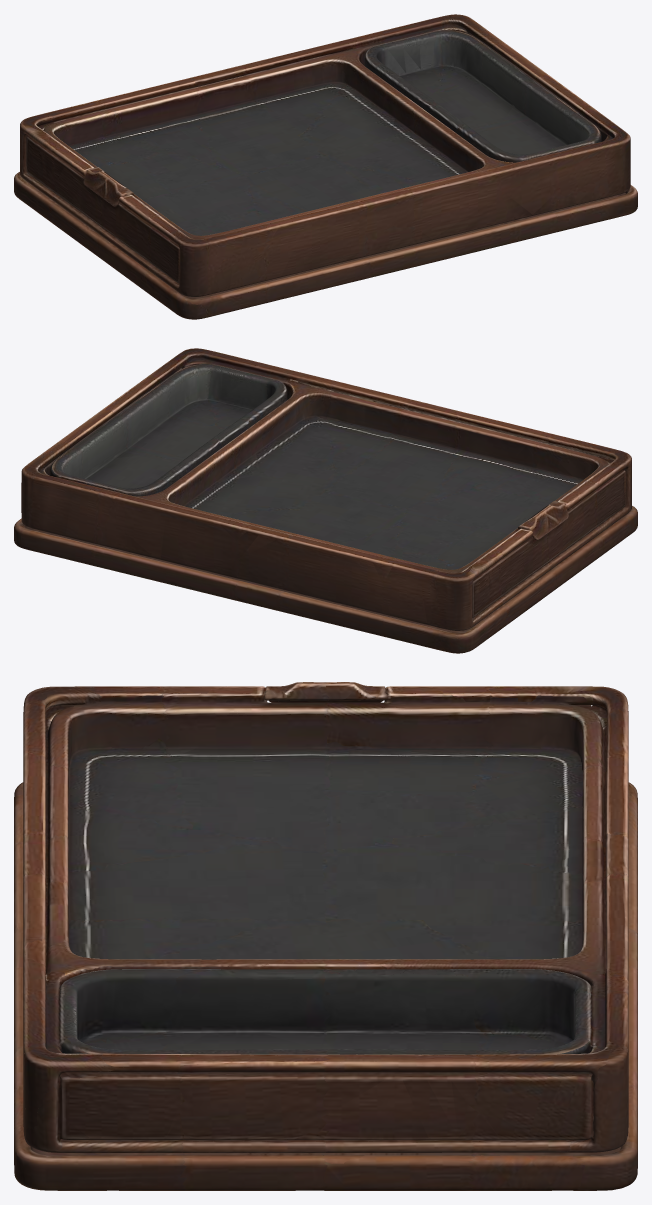
The model's file is document-tray.glb.
3 views of the same model, one above another, from view 1: azimuth 30°, elevation 25°; view 2: azimuth 150°, elevation 25°; view 3: azimuth 270°, elevation 25° (orthographic). The views are drawn at different scales.
Parts seen in each view (by area): view 1: mesh_node; view 2: mesh_node; view 3: mesh_node.
Boxes of the visible parts, x1,y1,x2,y2 form: mesh_node: (14, 14, 637, 319); mesh_node: (14, 348, 637, 653); mesh_node: (14, 682, 637, 1190).
Size of the model in its own units: 1.9 by 0.3096 by 1.3.
Materials: 1 (1 with a texture image).
